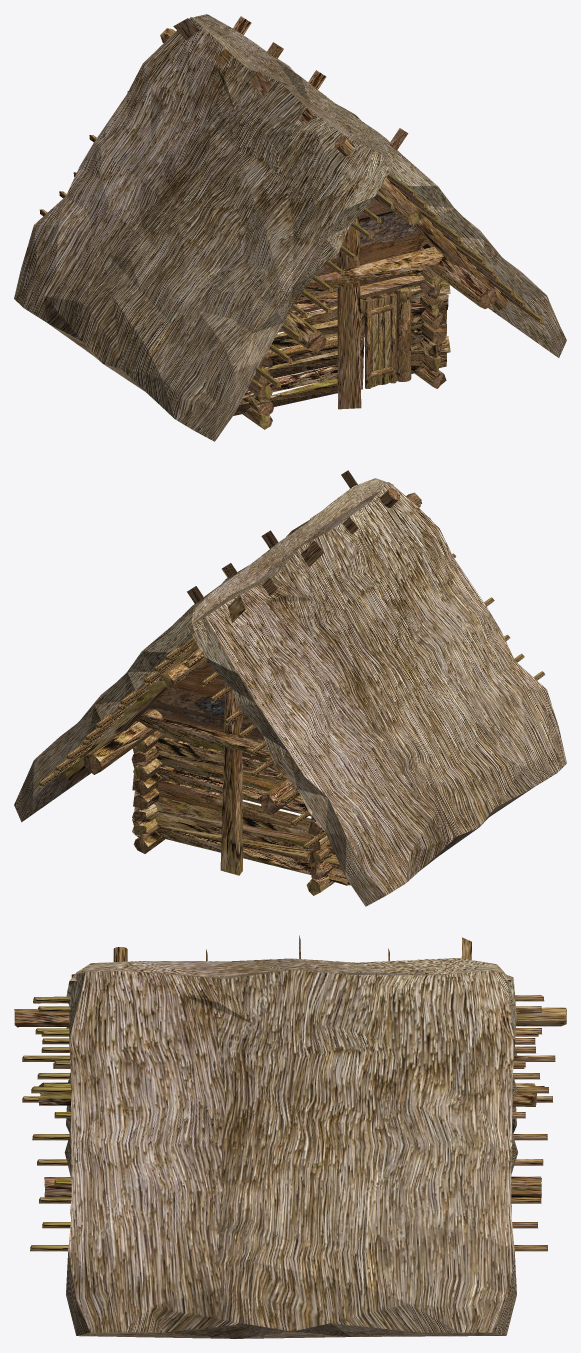
The model's file is cottage.gltf.
The picture shows the model from 3 angles, top to bottom: view 1: azimuth 30°, elevation 25°; view 2: azimuth 150°, elevation 25°; view 3: azimuth 270°, elevation 25°; orthographic projection. The views are drawn at different scales.
Visible parts, largest first — view 1: Kostka_1, Walec.003_11, Kostka.004_0, Walec.006_10, Walec.002_13, Walec.043_9, Kostka.002_5, Walec.044_8, Kostka.005_4; view 2: Kostka_1, Walec.003_11, Kostka.004_0; view 3: Kostka.004_0, Walec.003_11, Kostka_1.
Part boxes in pixels (x1,y1,x2,y2): Kostka_1: [14, 17, 393, 441]; Walec.003_11: [39, 16, 543, 429]; Kostka.004_0: [195, 14, 566, 357]; Walec.006_10: [334, 135, 507, 310]; Walec.002_13: [394, 286, 411, 381]; Walec.043_9: [365, 299, 371, 388]; Kostka.002_5: [371, 298, 378, 387]; Walec.044_8: [390, 293, 396, 383]; Kostka.005_4: [383, 295, 390, 384]; Kostka_1: [187, 482, 566, 906]; Walec.003_11: [38, 470, 545, 895]; Kostka.004_0: [14, 478, 393, 822]; Kostka.004_0: [64, 970, 517, 1338]; Walec.003_11: [14, 935, 566, 1251]; Kostka_1: [66, 958, 517, 1133].
Bounding box in the file's own units: 26.37 × 19.66 × 29.62.
4 materials, 4 textured.
